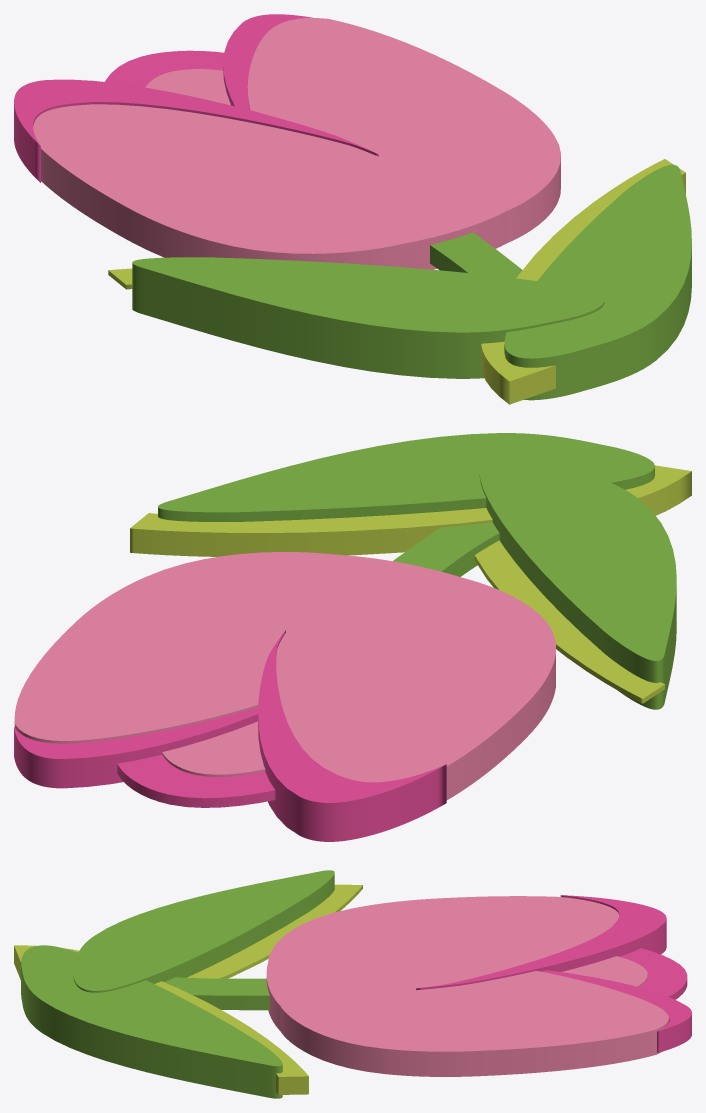
Rendered from emoji_u1f337.glb.
3 views of the same model, one above another, from view 1: azimuth 30°, elevation 25°; view 2: azimuth 150°, elevation 25°; view 3: azimuth 270°, elevation 25° (orthographic). The views are drawn at different scales.
Parts seen in each view (by area): view 1: emoji_u1f337; view 2: emoji_u1f337; view 3: emoji_u1f337.
Boxes of the visible parts, left/top/right/bottom form: emoji_u1f337: left=14, top=14, right=691, bottom=404; emoji_u1f337: left=14, top=433, right=691, bottom=841; emoji_u1f337: left=14, top=870, right=691, bottom=1098.
Size of the model in its own units: 0.0237 by 0.002 by 0.034.
